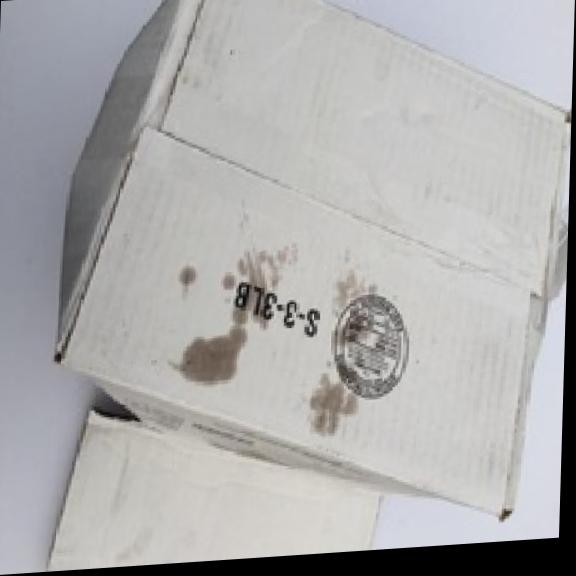Kertas: (50, 0, 569, 571)
